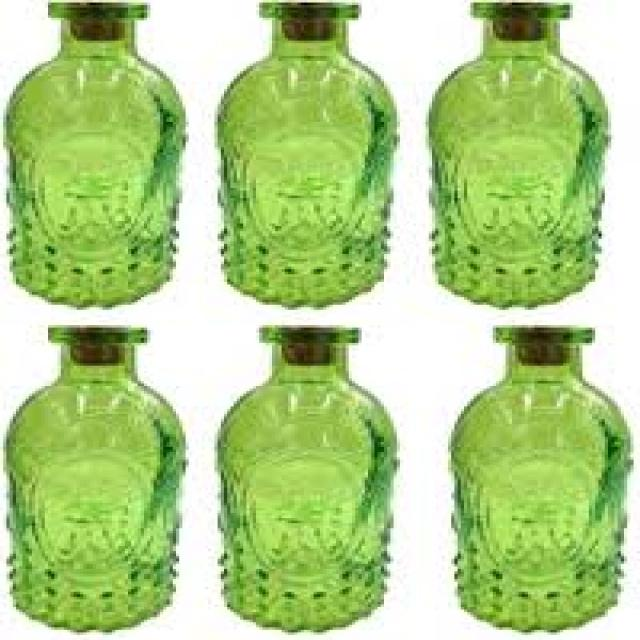glass: (422, 0, 604, 307), (0, 0, 182, 305), (214, 0, 397, 302), (448, 325, 627, 632), (3, 322, 179, 630), (218, 325, 394, 630)
